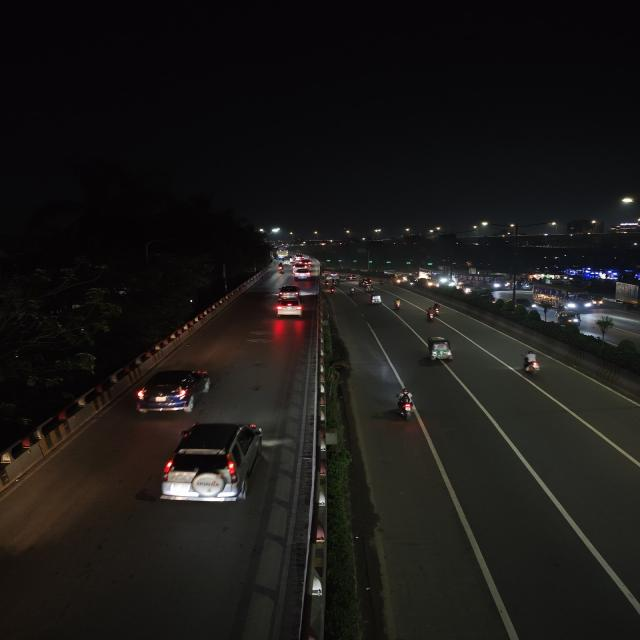bus: (533, 283, 596, 313), (458, 273, 506, 293), (420, 267, 448, 285)
car: (156, 419, 269, 511), (133, 365, 215, 416), (273, 298, 306, 318), (276, 284, 303, 300), (292, 269, 312, 281), (359, 280, 373, 290), (346, 273, 360, 281)
cng: (423, 335, 457, 365), (555, 310, 582, 328), (366, 292, 384, 306), (282, 258, 291, 264)
motorcycle: (391, 386, 420, 422), (516, 348, 547, 380), (424, 301, 444, 320), (391, 296, 404, 312), (276, 264, 286, 274), (348, 286, 359, 295)
truck: (614, 278, 640, 312)
